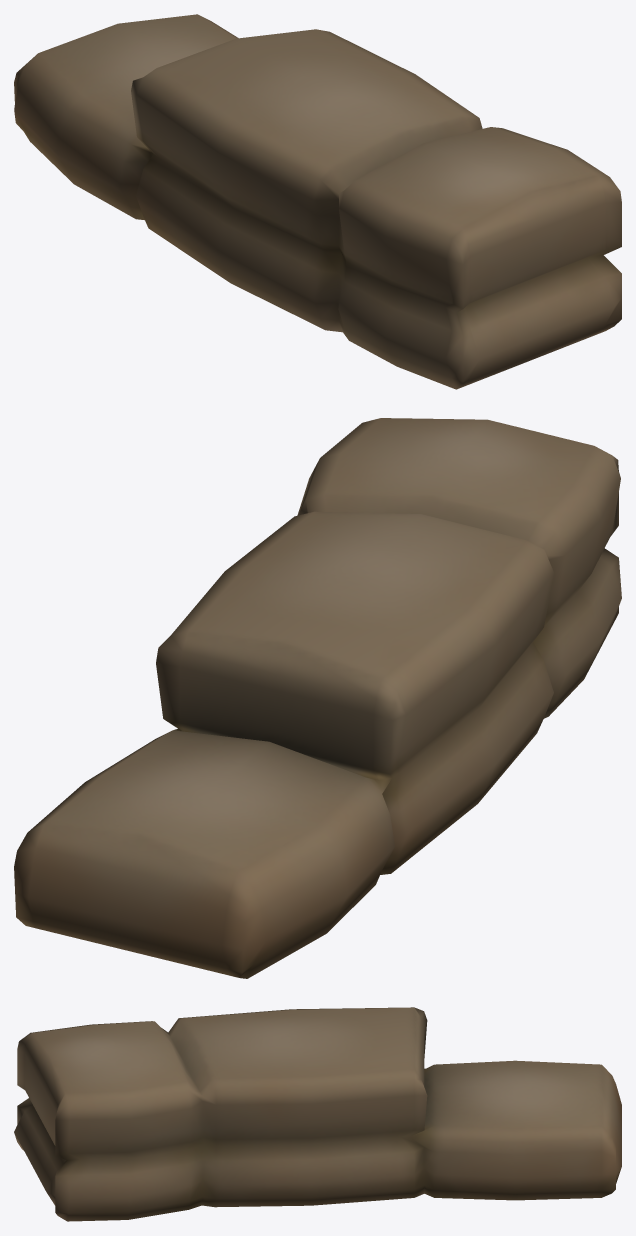
Rendered from S_SandBagWall.fbx.
3 views of the same model, one above another, from view 1: azimuth 30°, elevation 25°; view 2: azimuth 150°, elevation 25°; view 3: azimuth 270°, elevation 25° (orthographic). The views are drawn at different scales.
Visible parts, largest first — view 1: SandBag_Wall; view 2: SandBag_Wall; view 3: SandBag_Wall.
Part boxes in pixels (<box>): SandBag_Wall: <box>14,14,621,389</box>; SandBag_Wall: <box>14,418,621,978</box>; SandBag_Wall: <box>14,1007,621,1221</box>.
Size of the model in its own units: 181 by 105 by 434.
